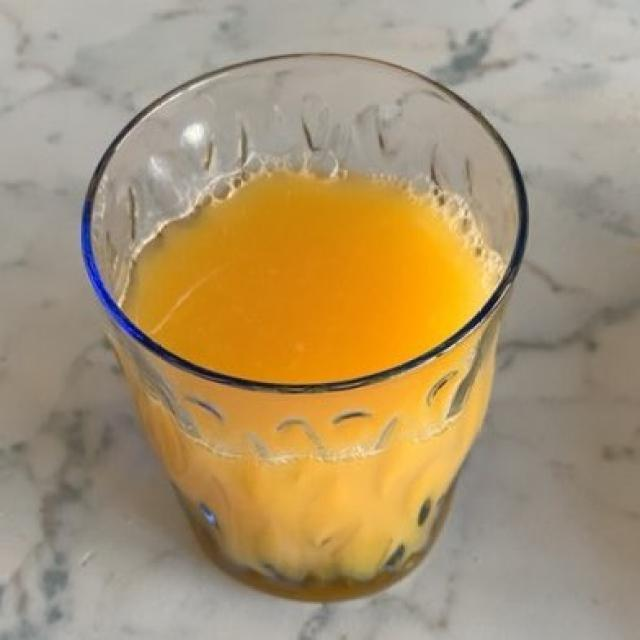juice: (125, 166, 494, 384)
